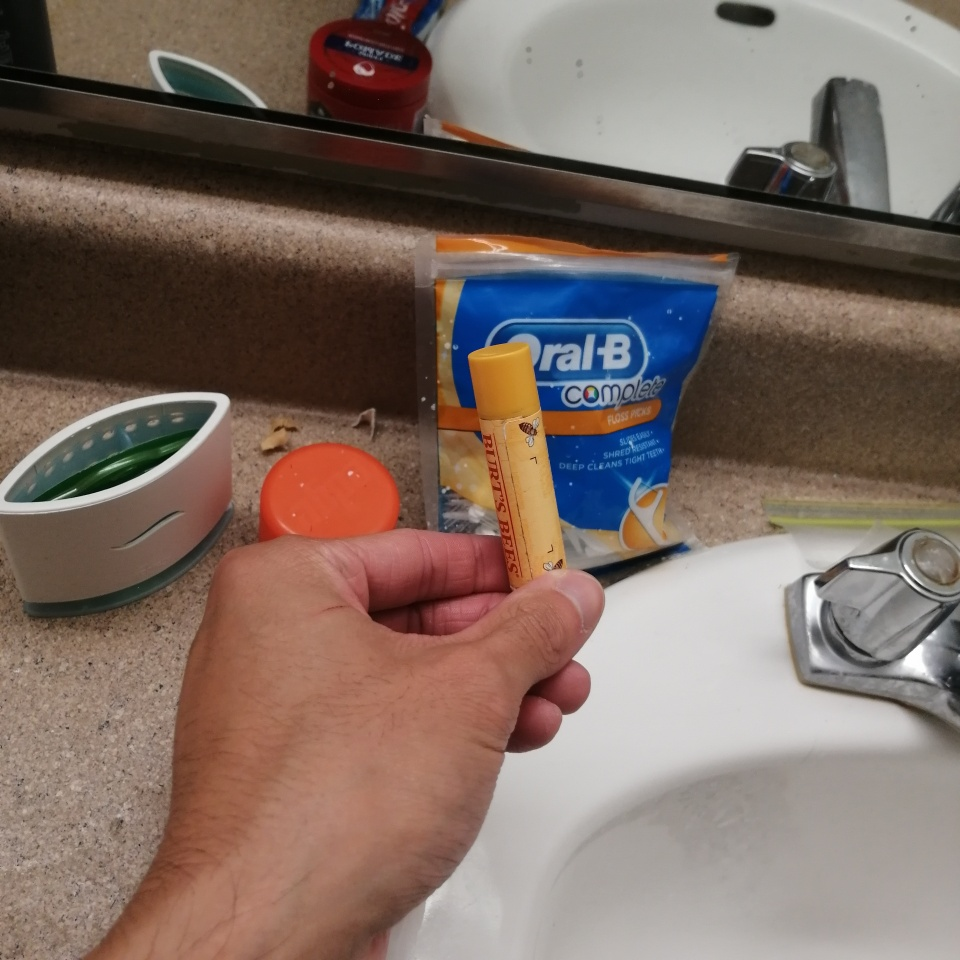chapstick: (467, 342, 567, 591)
